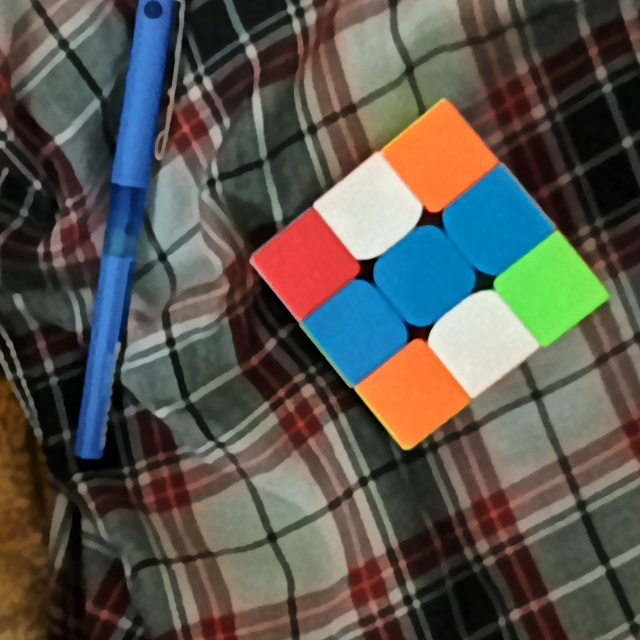tile: (409, 130, 471, 187), (523, 262, 584, 318), (342, 180, 400, 238), (450, 310, 505, 370), (397, 245, 453, 301), (384, 366, 439, 423), (467, 197, 522, 253), (328, 301, 383, 356), (274, 240, 334, 290)
